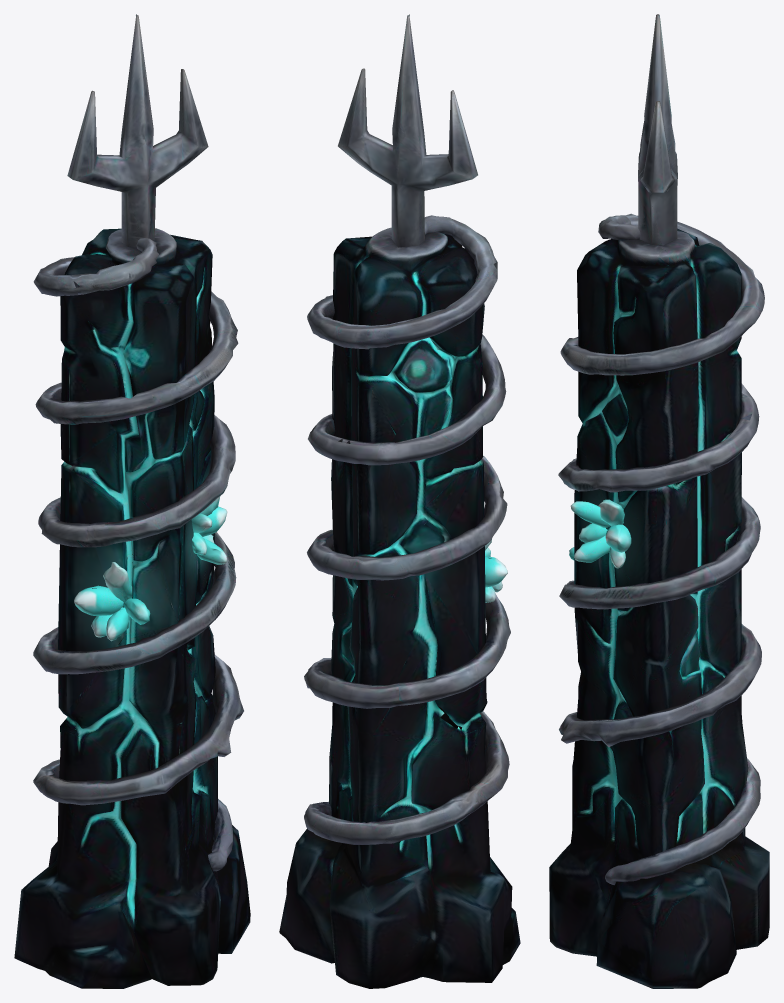
The model's file is pillar_b.glb.
3 views of the same model, side by side, from view 1: azimuth 30°, elevation 25°; view 2: azimuth 150°, elevation 25°; view 3: azimuth 270°, elevation 25° (orthographic).
Visible parts, largest first — view 1: geometry_0; view 2: geometry_0; view 3: geometry_0.
Part boxes in pixels (<box>): geometry_0: <box>14,14,250,988</box>; geometry_0: <box>279,14,520,988</box>; geometry_0: <box>549,14,769,988</box>.
Size of the model in its own units: 0.2285 by 0.9526 by 0.2065.
Materials: 1 (1 with a texture image).
